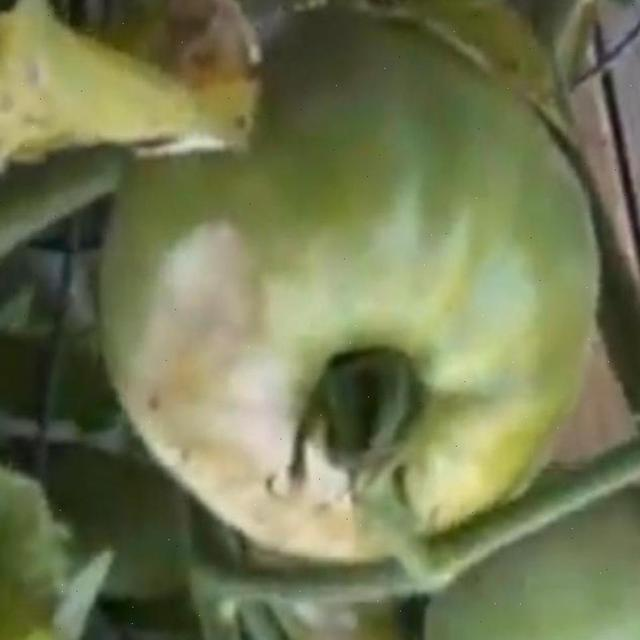Sunscald Fruit: (81, 124, 232, 369)
